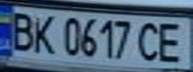0: (57, 14, 81, 57)
1: (97, 17, 118, 59)
6: (78, 16, 100, 58)
7: (112, 17, 136, 60)
B: (3, 9, 39, 52)
C: (133, 19, 163, 63)
E: (154, 19, 190, 64)
K: (30, 11, 57, 55)
